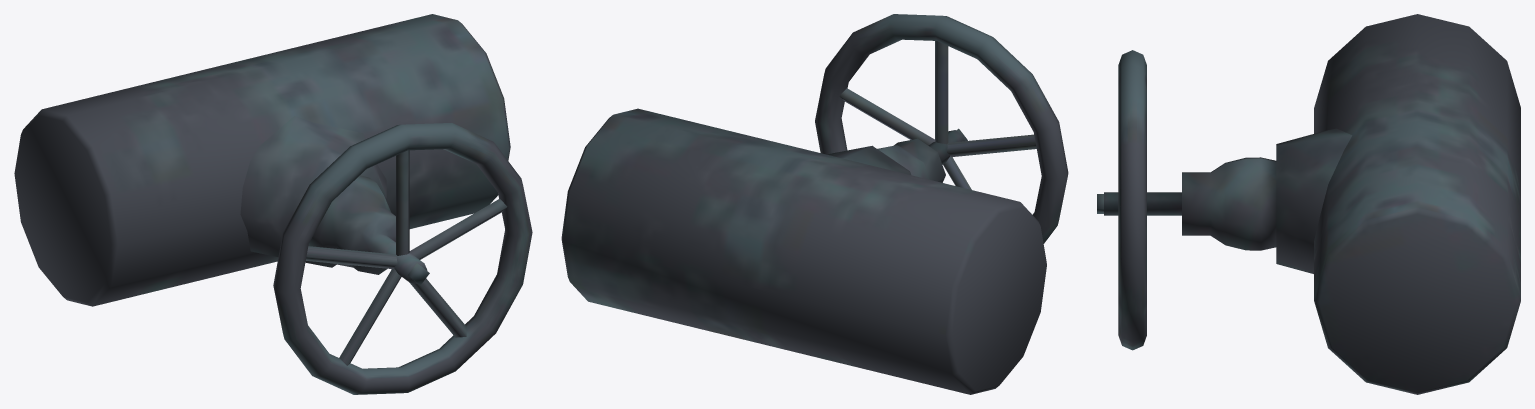
Rendered from Valvula.fbx.
3 views of the same model, side by side, from view 1: azimuth 30°, elevation 25°; view 2: azimuth 150°, elevation 25°; view 3: azimuth 270°, elevation 25° (orthographic). The views are drawn at different scales.
Visible parts, largest first — view 1: Valvula; view 2: Valvula; view 3: Valvula.
Part boxes in pixels (<box>): Valvula: <box>14,14,532,394</box>; Valvula: <box>561,14,1068,394</box>; Valvula: <box>1097,14,1520,394</box>.
Size of the model in its own units: 65.71 by 42.22 by 59.52.
